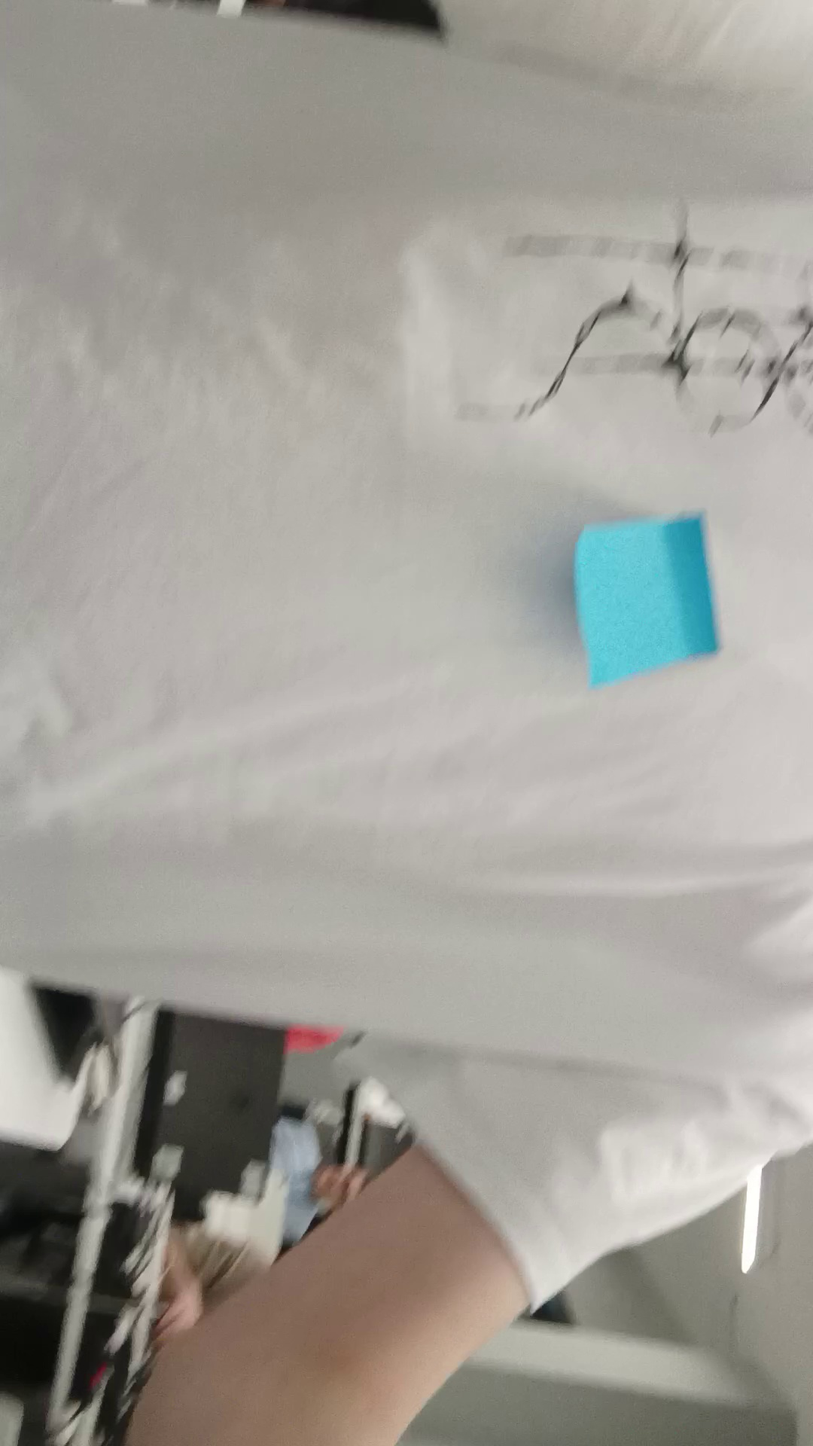marker: (662, 520, 715, 654), (595, 664, 607, 679)
